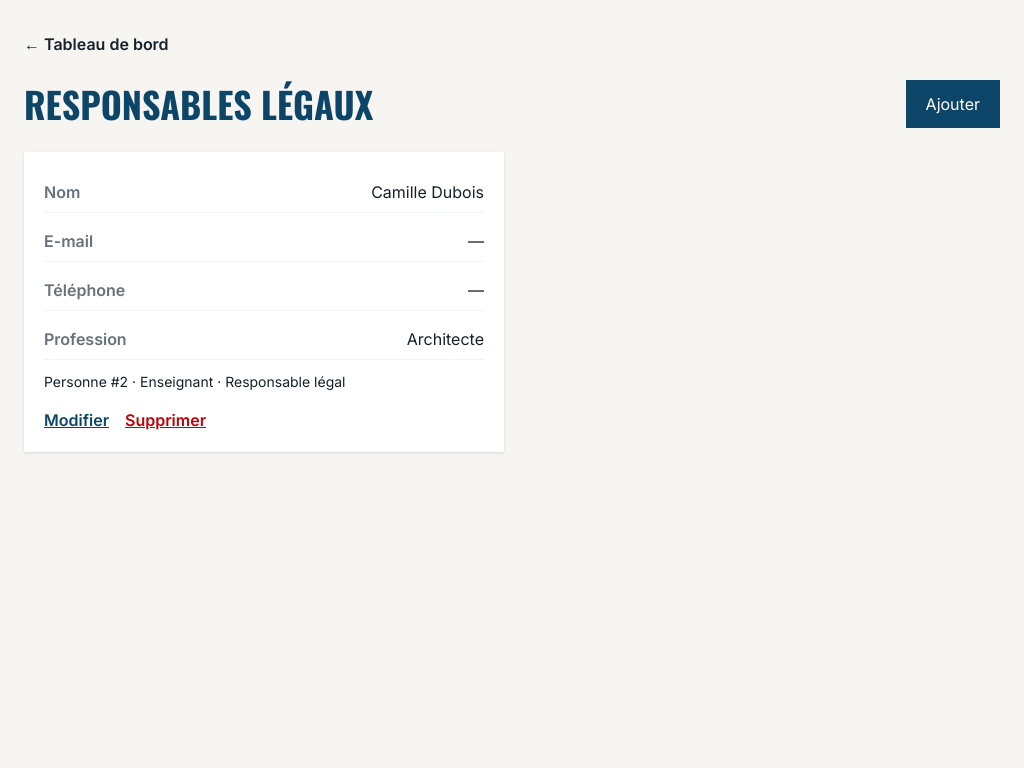
Test case: affiche le conflit de rattachement et conserve la sélection et la profession
The width and height of the screenshot is (1024, 768).
Step 1. Click the button "Ajouter" → [953, 104], box [906,80,1000,128]
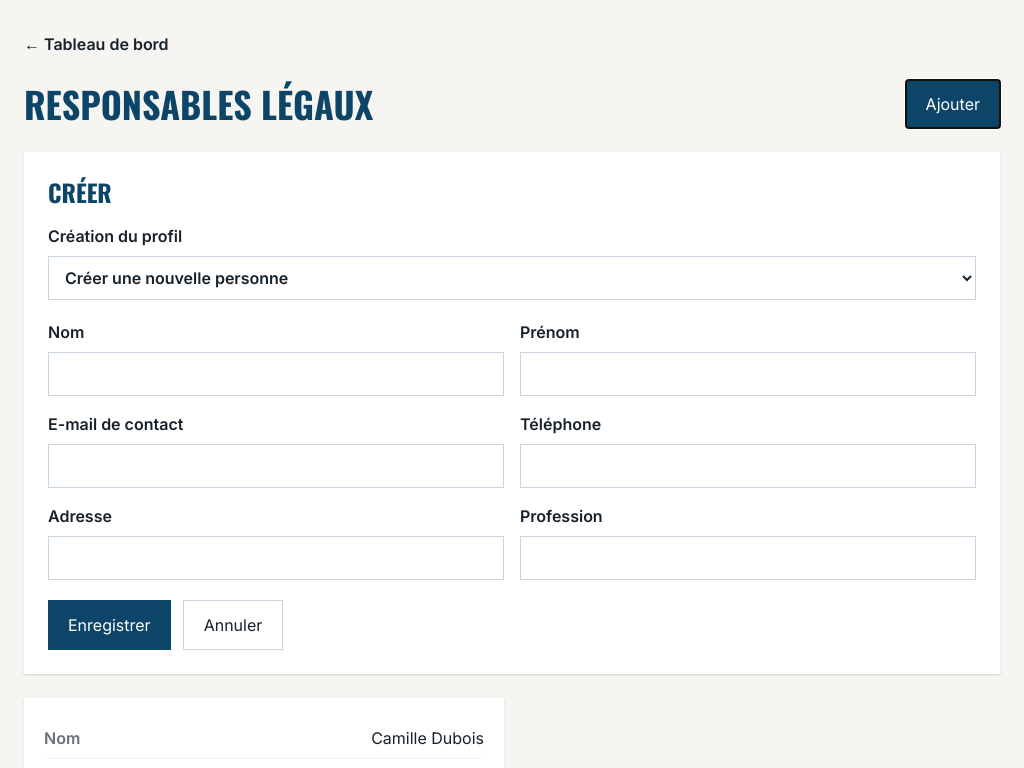
Step 2. Select "Rattacher à une personne existante" in the dropdown labelled "Création du profil" → [512, 278], box [48,256,976,300]
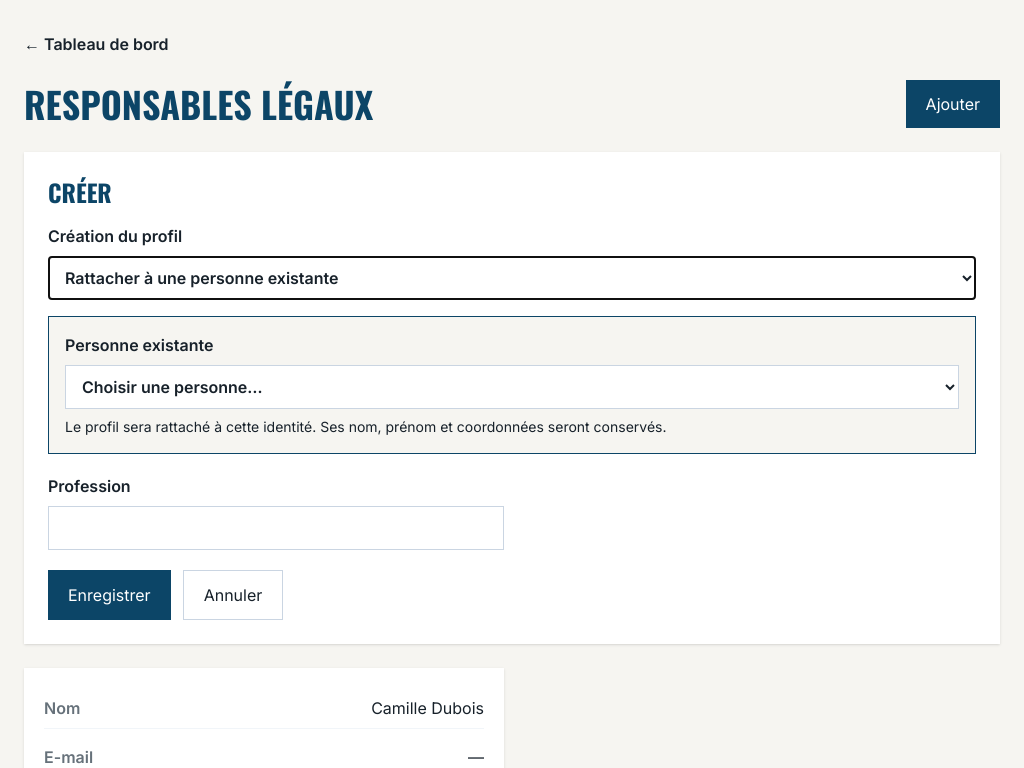
Step 3. Select "Alex Martin · #1 · Enseignant · alex@example.test" in the dropdown labelled "Personne existante" → [512, 387], box [65,365,959,409]
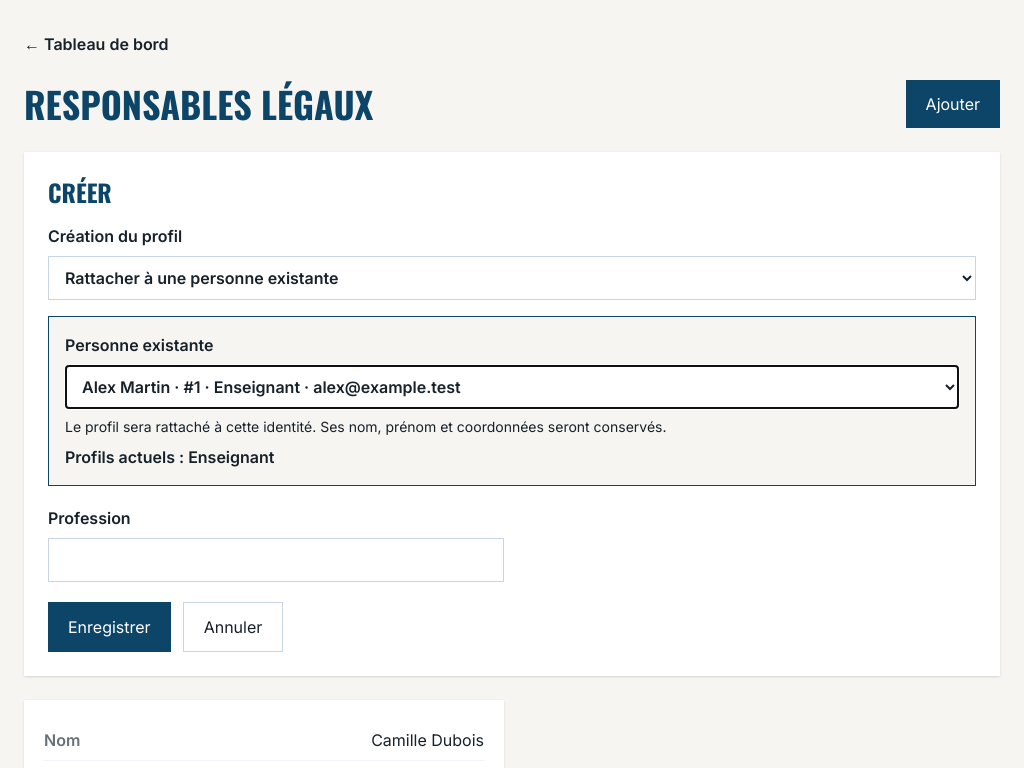
Step 4. Type "Profession conservée" into the field labelled "Profession" → [276, 560], box [48,538,504,582]
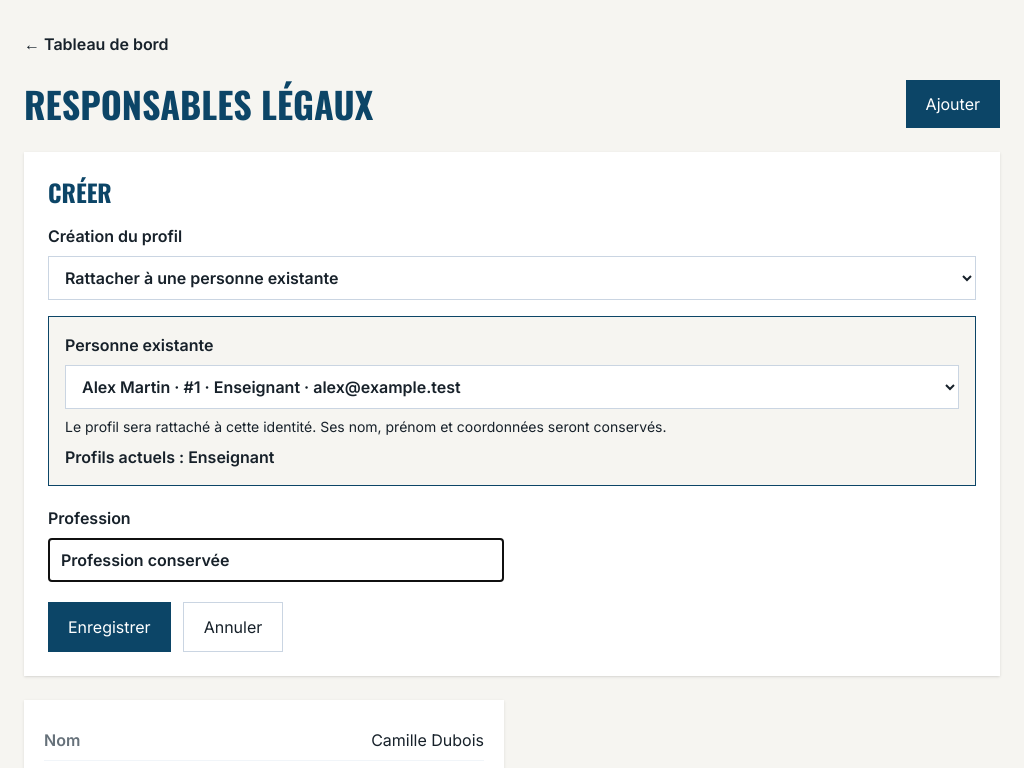
Step 5. Click the button "Enregistrer" → [109, 627], box [48,602,171,652]
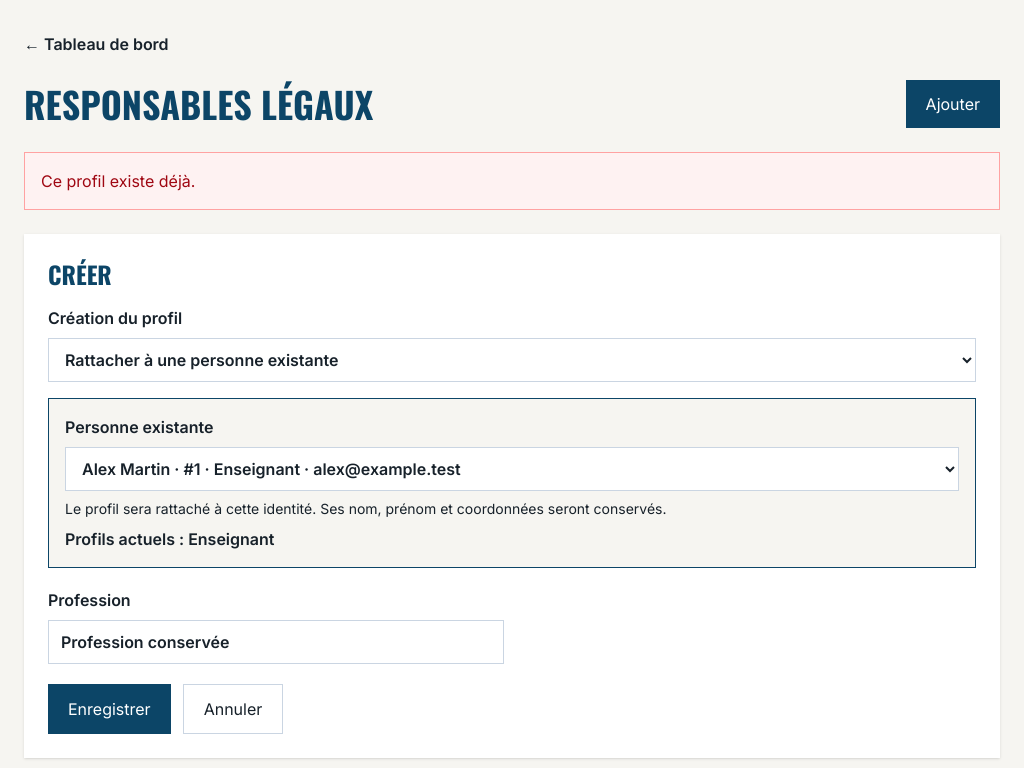
Check: the message reads "Ce profil existe déjà.", box [41,171,195,191]
